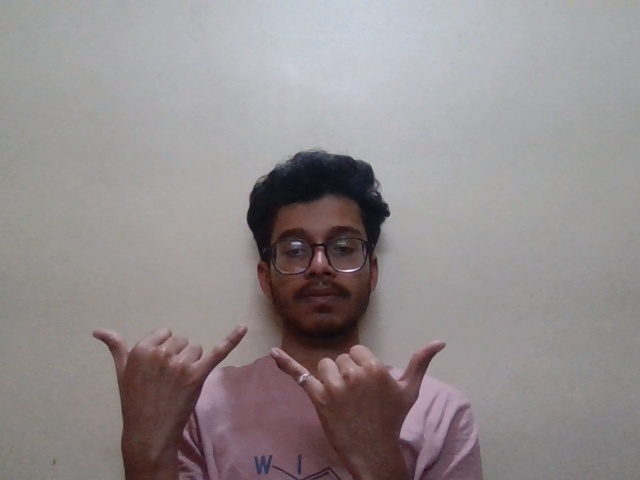today: (92, 319, 451, 443)
